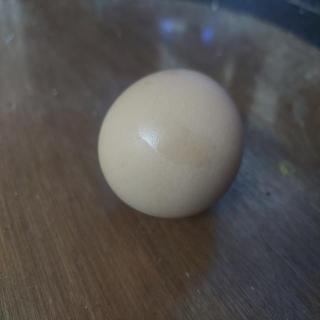Telur: (95, 67, 249, 225)
